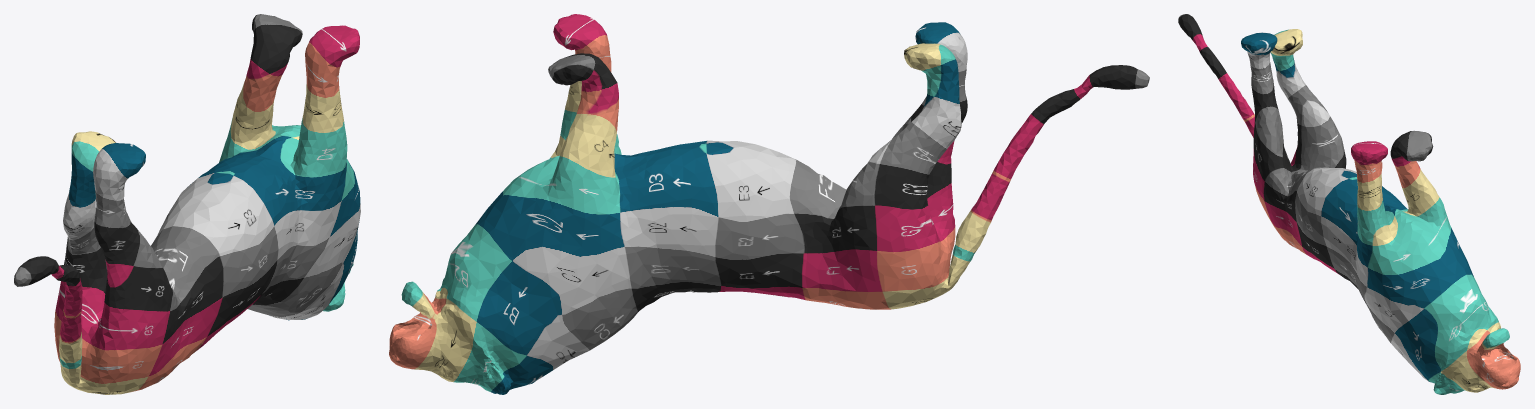
Rendered from horse_04-lion_02.obj.
The picture shows the model from 3 angles, left to right: view 1: azimuth 30°, elevation 25°; view 2: azimuth 150°, elevation 25°; view 3: azimuth 270°, elevation 25°; orthographic projection. The views are drawn at different scales.
Visible parts, largest first — view 1: horse_04-lion_02_export; view 2: horse_04-lion_02_export; view 3: horse_04-lion_02_export.
Part boxes in pixels (x1=…): horse_04-lion_02_export: x1=14, y1=14, x2=360, y2=394; horse_04-lion_02_export: x1=389, y1=14, x2=1149, y2=394; horse_04-lion_02_export: x1=1178, y1=14, x2=1520, y2=394.
Size of the model in its own units: 1.04 by 0.6121 by 0.7757.
